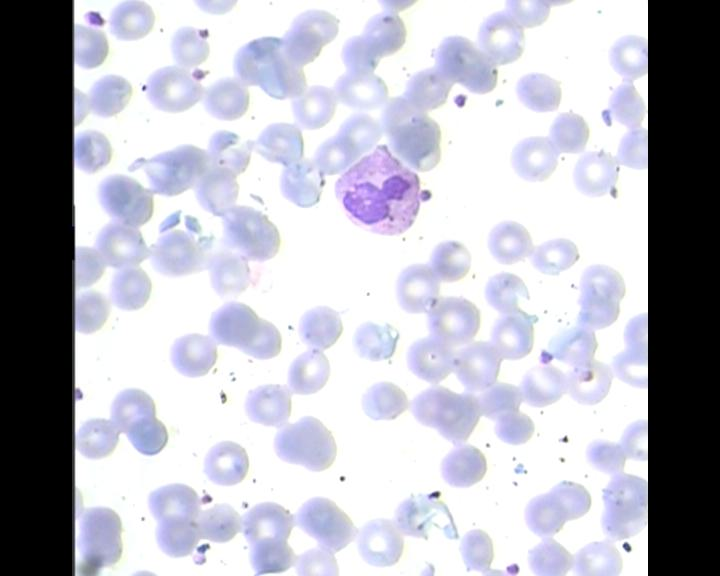neut: (331, 147, 424, 240)
